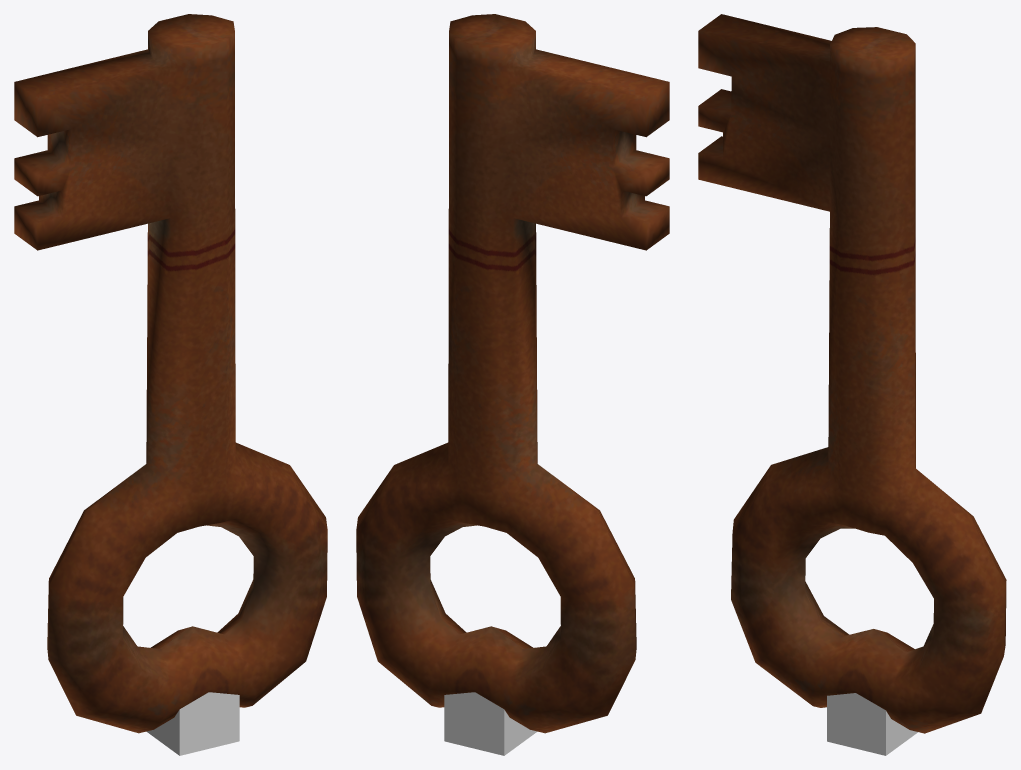
File: key.fbx
3 renders of one model, left to right at view 1: azimuth 30°, elevation 25°; view 2: azimuth 150°, elevation 25°; view 3: azimuth 330°, elevation 25°, orthographic.
Visible parts, largest first — view 1: key.001, Cube; view 2: key.001, Cube; view 3: key.001, Cube.
Part boxes in pixels (x1,y1,x2,y2): key.001: [14, 14, 327, 733]; Cube: [146, 692, 239, 755]; key.001: [356, 14, 669, 733]; Cube: [444, 692, 537, 755]; key.001: [698, 14, 1006, 733]; Cube: [827, 693, 917, 755].
Bounding box in the file's own units: 1003 × 2250 × 223.
